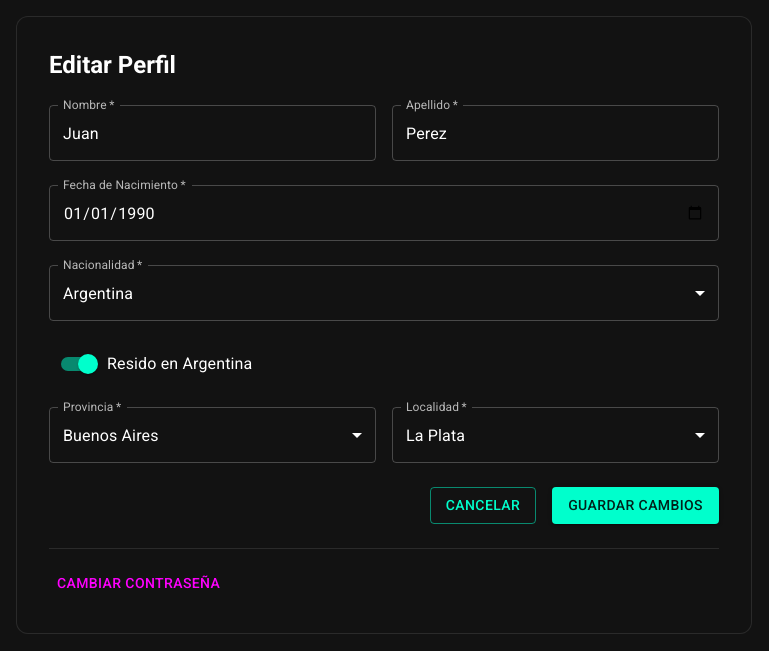
Scenario: EditProfilePage › handles switching residence to not Argentina
What coordinates should you click on to do the following:
click the switch labelled "Resido en Argentina"
I would click on:
 (157, 364)
Its box is [61,354,252,374].
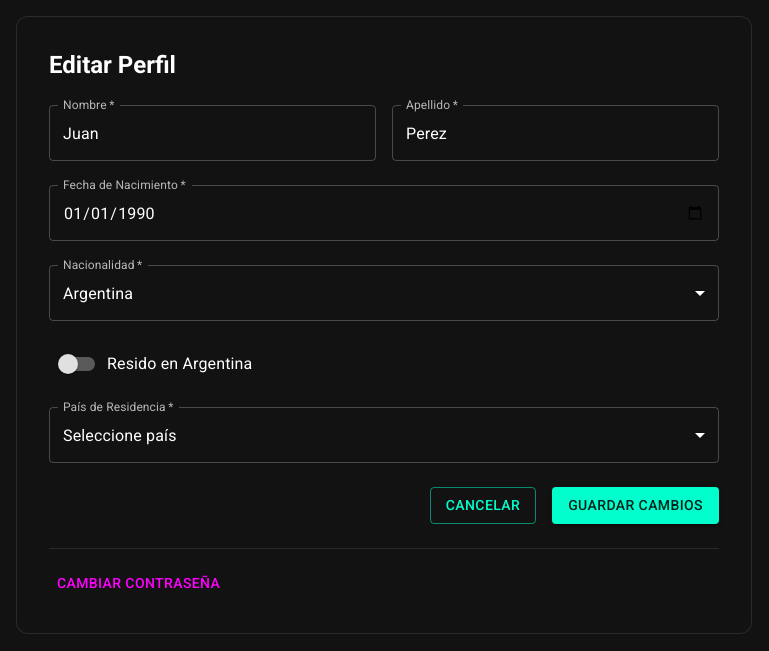
Now the dropdown named "País de Residencia" is shown, box [63,426,177,444]
Now the label labelled "Provincia" is gone
